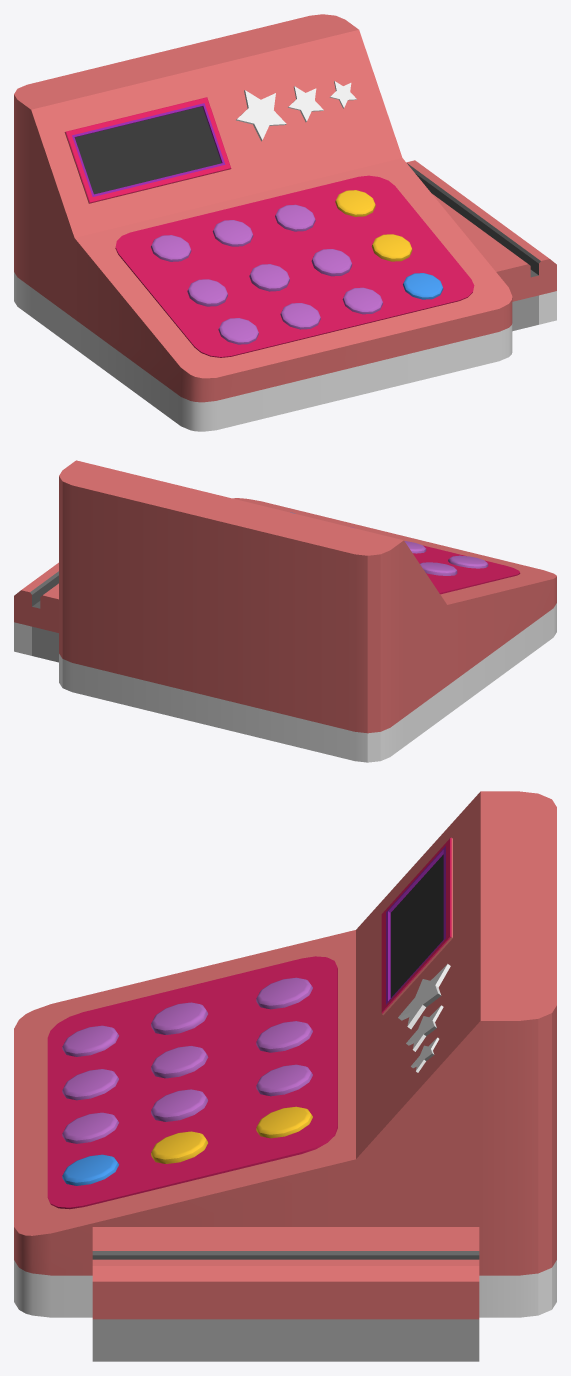
The model's file is Cash_Register_2.fbx.
3 views of the same model, one above another, from view 1: azimuth 30°, elevation 25°; view 2: azimuth 150°, elevation 25°; view 3: azimuth 270°, elevation 25° (orthographic). The views are drawn at different scales.
Parts seen in each view (by area): view 1: Cash_Register_2; view 2: Cash_Register_2; view 3: Cash_Register_2.
Part boxes in pixels (left/top/right/bottom): Cash_Register_2: left=14, top=14, right=556, bottom=431; Cash_Register_2: left=14, top=460, right=556, bottom=762; Cash_Register_2: left=14, top=791, right=556, bottom=1361.
Size of the model in its own units: 29.37 by 14.87 by 24.66.
Materials: 1 (1 with a texture image).
